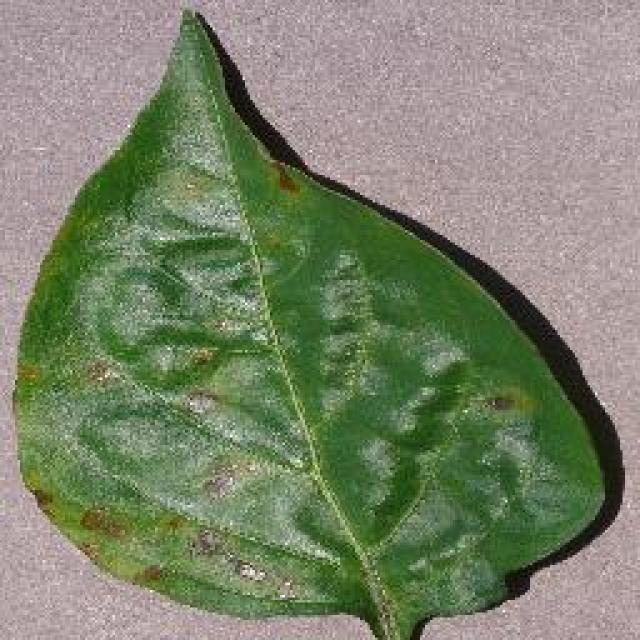Chilli_Bacterial_Spot: (8, 2, 622, 638), (460, 380, 542, 428), (72, 500, 130, 542), (265, 155, 303, 200), (180, 385, 222, 420), (472, 388, 520, 418), (10, 358, 45, 390), (185, 525, 220, 557), (185, 340, 220, 370), (75, 503, 107, 535)
